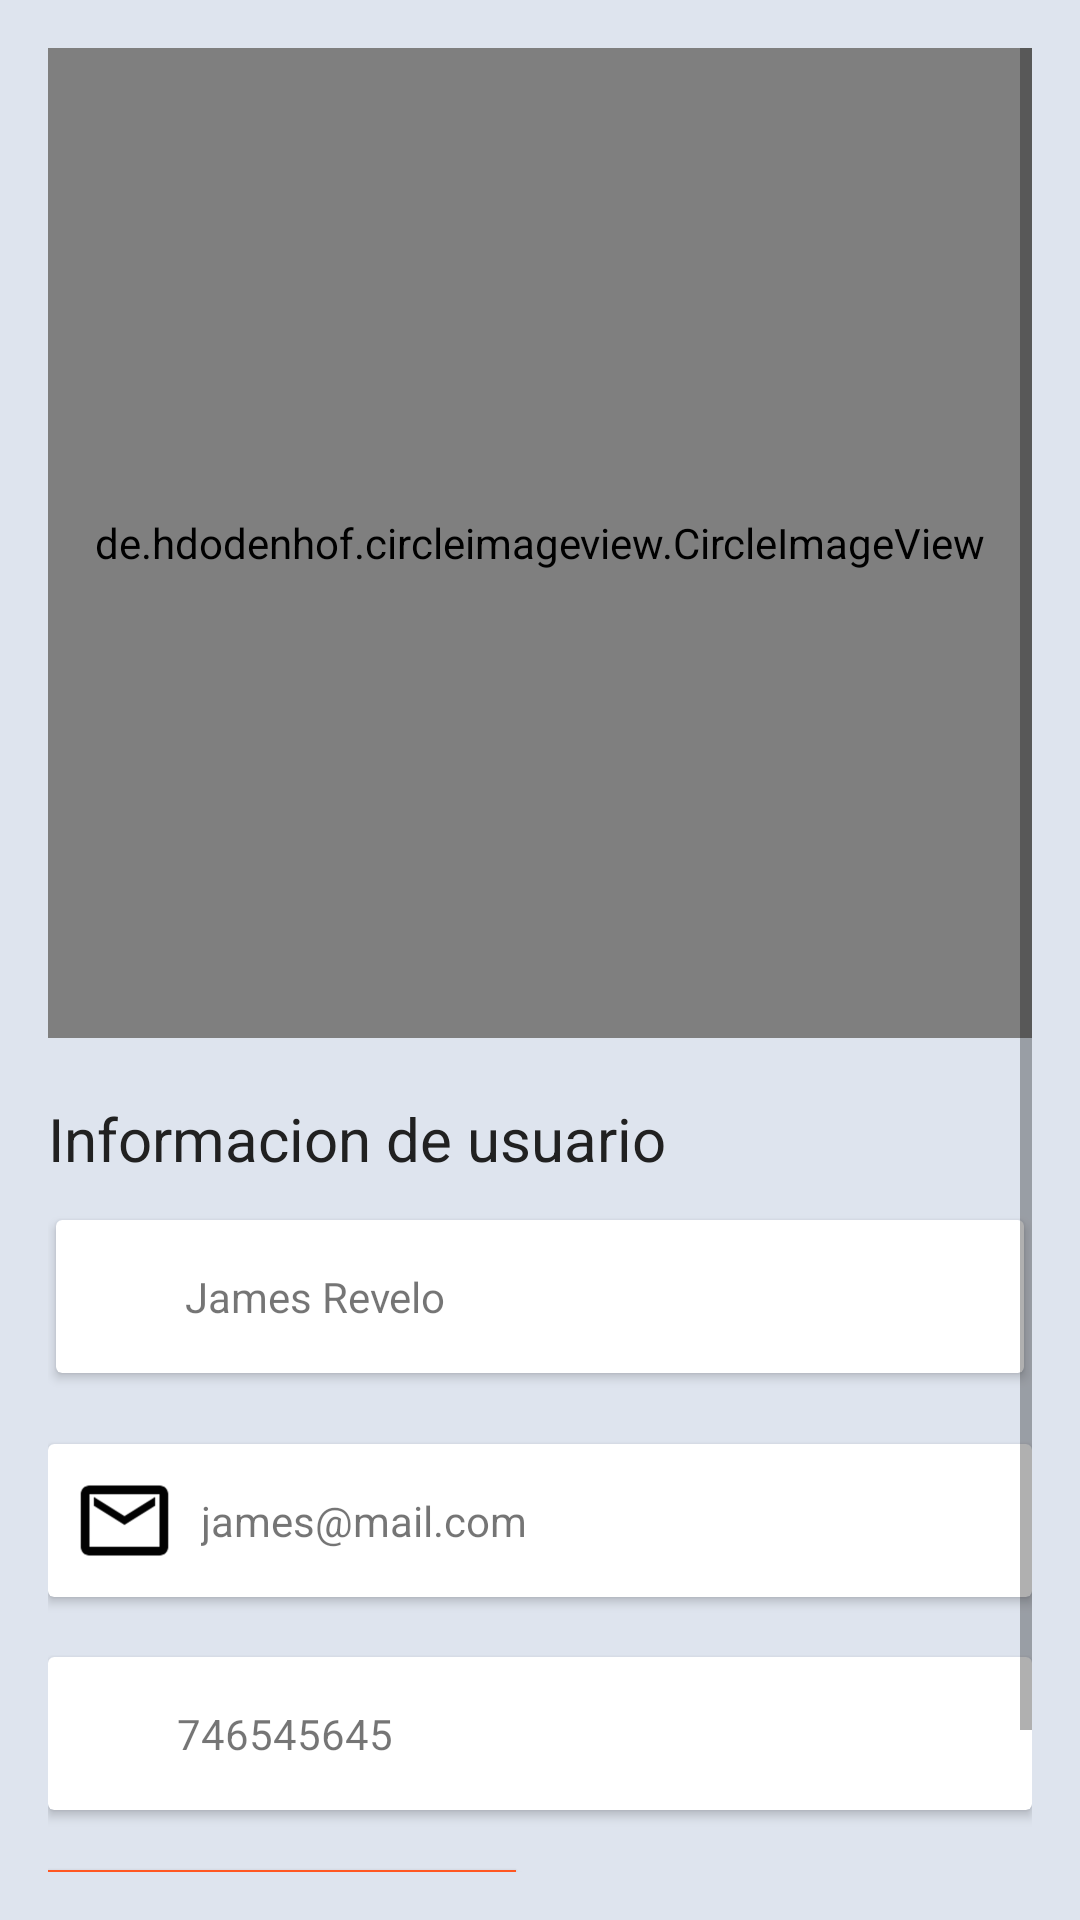

Screen size 1080 x 1920. Icon name, then its box in pixels as (x1, y1, x2, y2):
email: (80, 1485, 169, 1556)
